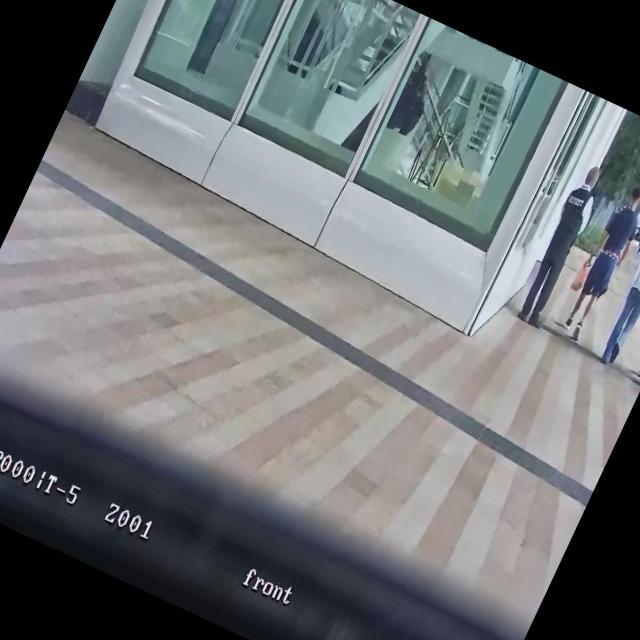person: (511, 160, 612, 330), (555, 177, 640, 344), (594, 202, 640, 372), (634, 218, 640, 257)
